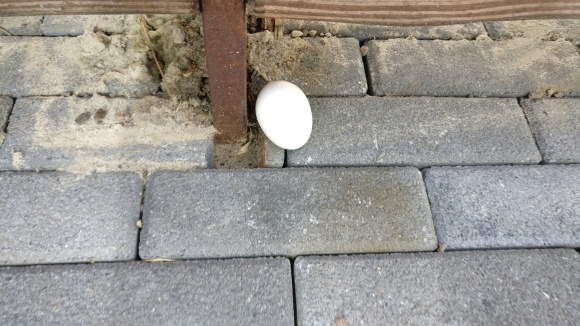egg: (254, 80, 313, 151)
